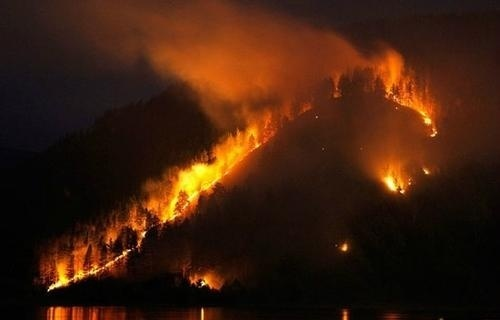fire: (53, 44, 424, 291)
